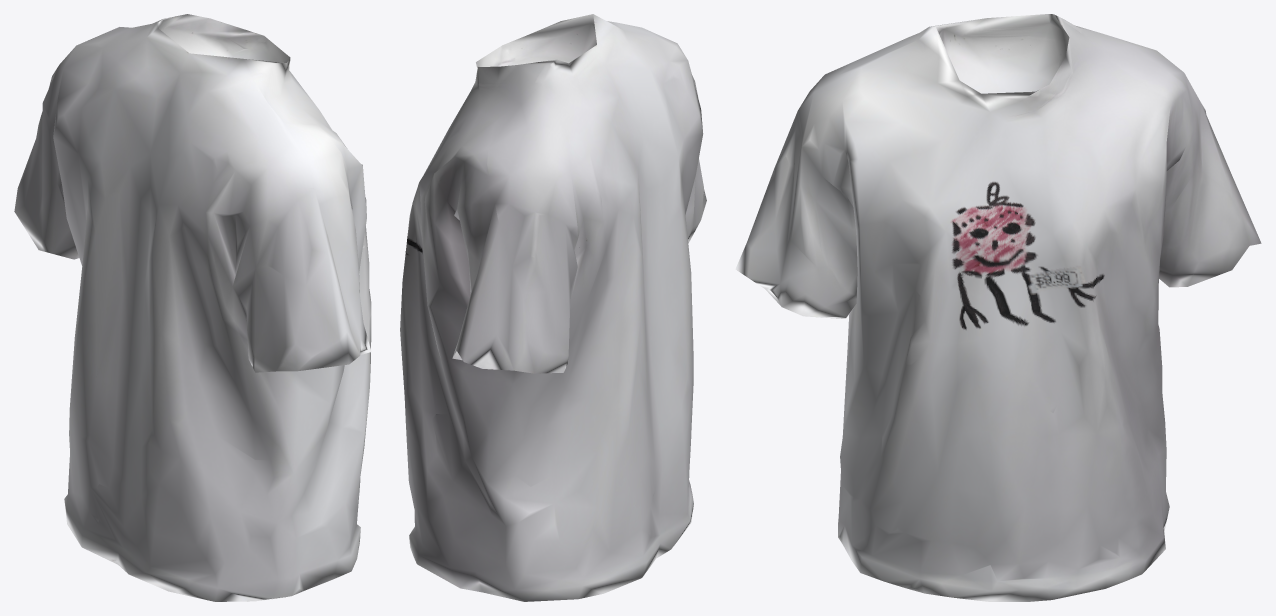
Rendered from shirt-sponge.glb.
3 renders of one model, left to right at view 1: azimuth 30°, elevation 25°; view 2: azimuth 150°, elevation 25°; view 3: azimuth 270°, elevation 25°, orthographic. The views are drawn at different scales.
Visible parts, largest first — view 1: vizcom_node_0; view 2: vizcom_node_0; view 3: vizcom_node_0.
Part boxes in pixels (x1,y1,x2,y2): vizcom_node_0: [14, 14, 371, 601]; vizcom_node_0: [400, 14, 706, 601]; vizcom_node_0: [735, 14, 1261, 601].
Bounding box in the file's own units: 0.4858 × 1 × 0.9224.
1 material, 1 textured.
